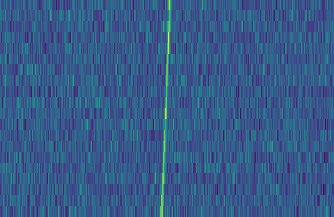signal: (157, 0, 174, 217)
